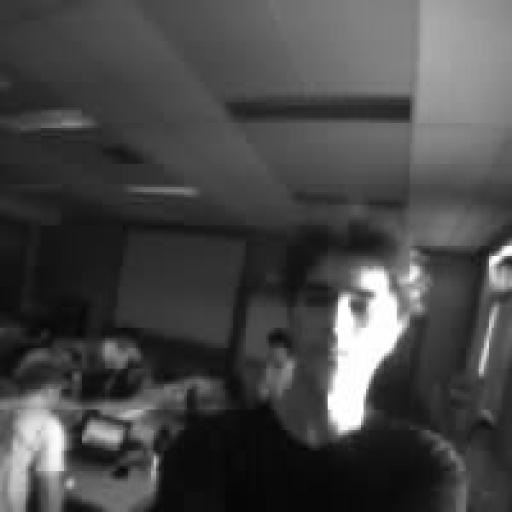human: (152, 216, 465, 511), (0, 361, 66, 511), (82, 328, 148, 399), (259, 328, 294, 399)
